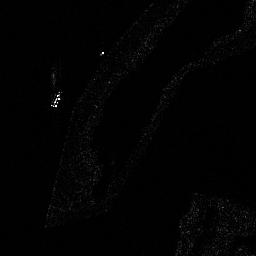ship: (51, 90, 61, 108)
